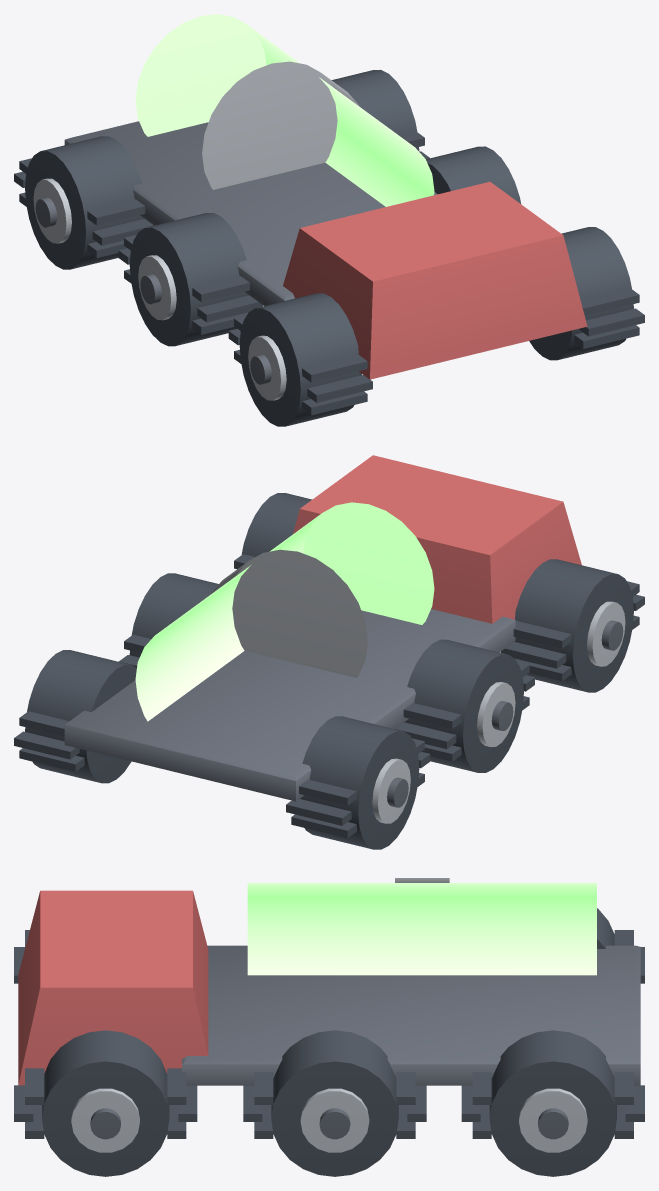
Rendered from dtruck.glb.
3 renders of one model, top to bottom at view 1: azimuth 30°, elevation 25°; view 2: azimuth 150°, elevation 25°; view 3: azimuth 270°, elevation 25°, orthographic. The views are drawn at different scales.
Parts seen in each view (by area): view 1: Hull; view 2: Hull; view 3: Hull.
Boxes of the visible parts, left/top/right/bottom form: Hull: left=14, top=14, right=644, bottom=426; Hull: left=14, top=455, right=644, bottom=849; Hull: left=14, top=878, right=644, bottom=1176.
Size of the model in its own units: 1.9 by 1 by 2.77.
